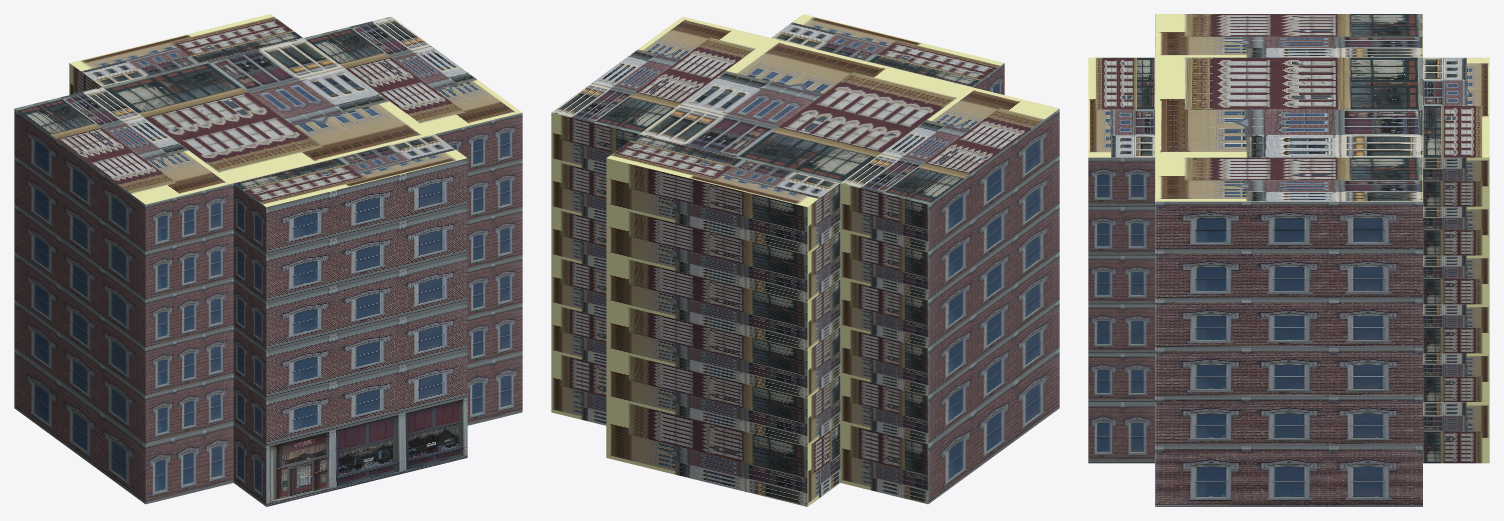
The model's file is Apartment.fbx.
3 views of the same model, side by side, from view 1: azimuth 30°, elevation 25°; view 2: azimuth 150°, elevation 25°; view 3: azimuth 270°, elevation 25° (orthographic).
Parts seen in each view (by area): view 1: Cube.001; view 2: Cube.001; view 3: Cube.001.
Part boxes in pixels (bbox=[...]): Cube.001: bbox=[14, 14, 522, 506]; Cube.001: bbox=[551, 14, 1059, 506]; Cube.001: bbox=[1088, 14, 1489, 506].
Size of the model in its own units: 4740 by 3600 by 4290.
